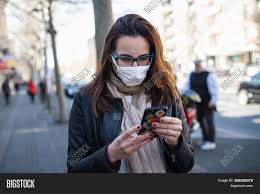with-mask: (102, 24, 155, 90)
